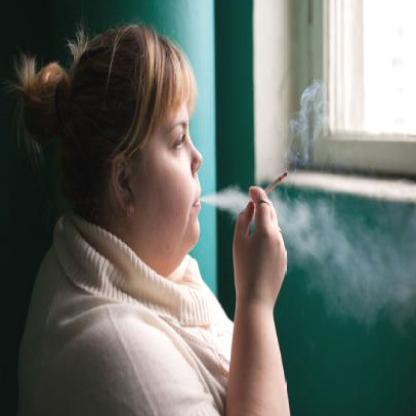cigarette: (262, 172, 288, 194)
person: (16, 26, 209, 415)
smoke: (280, 198, 416, 314), (290, 80, 322, 134), (202, 185, 247, 216)
